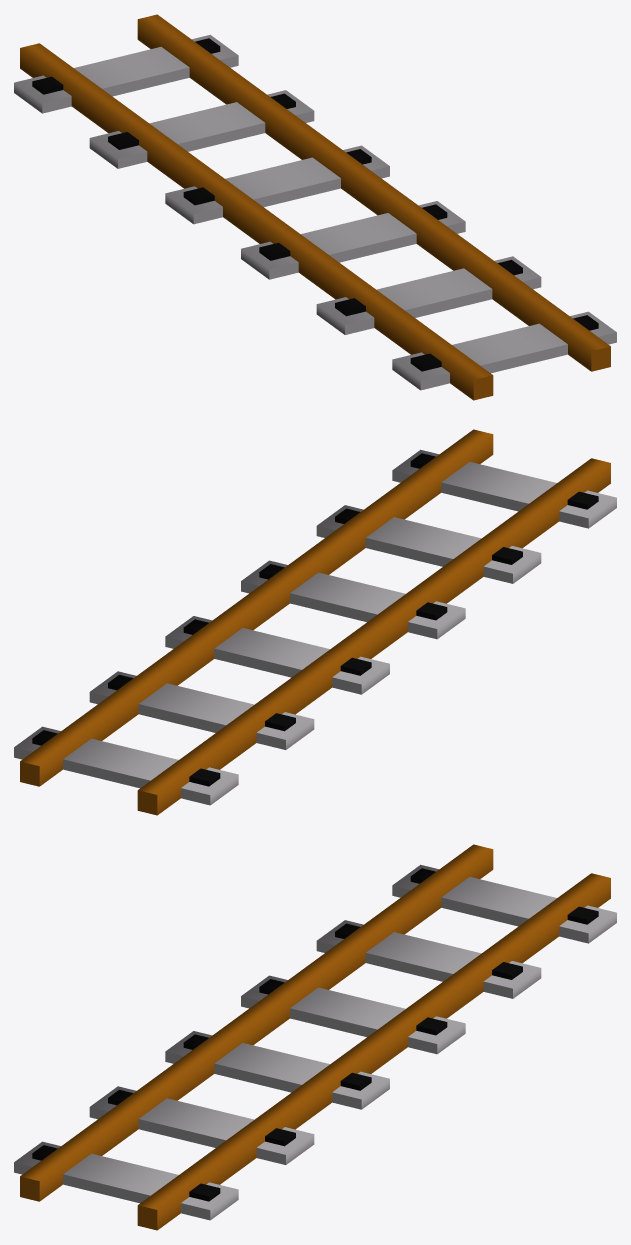
The model's file is rails_straight_8.obj.
3 renders of one model, top to bottom at view 1: azimuth 30°, elevation 25°; view 2: azimuth 150°, elevation 25°; view 3: azimuth 330°, elevation 25°, orthographic.
Visible parts, largest first — view 1: railroad-straight; view 2: railroad-straight; view 3: railroad-straight.
Part boxes in pixels (bbox=[...]): railroad-straight: bbox=[14, 14, 616, 400]; railroad-straight: bbox=[14, 429, 616, 815]; railroad-straight: bbox=[14, 844, 616, 1230].
Size of the model in its own units: 0.25 by 0.025 by 1.
1 material, 1 textured.
